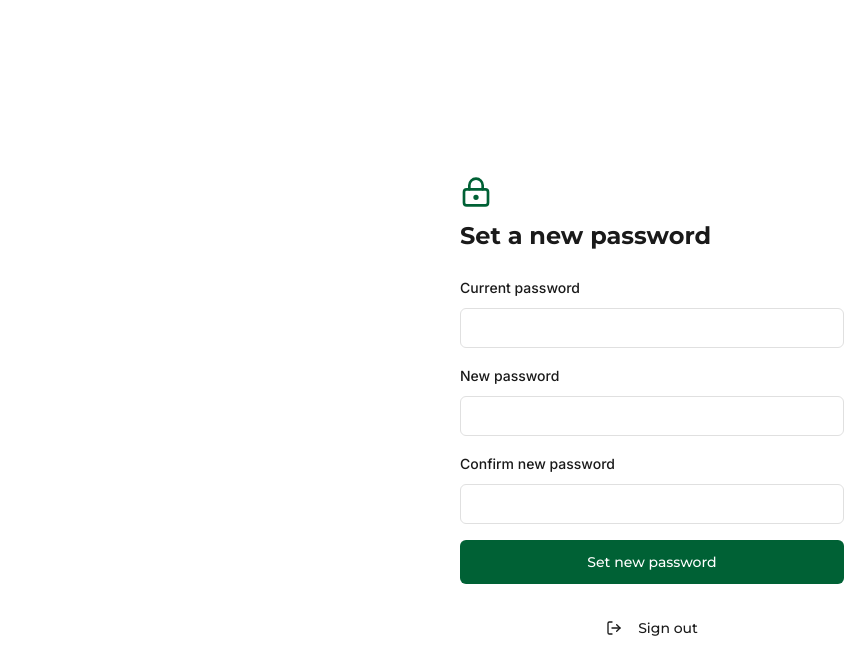
Scenario: Mandatory password-change screen › only releases protected content after a successful change and flag readback
The width and height of the screenshot is (861, 653).
Type "CurrentTestOnly1" into the password field labelled "Current password" at (652, 328), box x1=460 y1=308 x2=844 y2=348
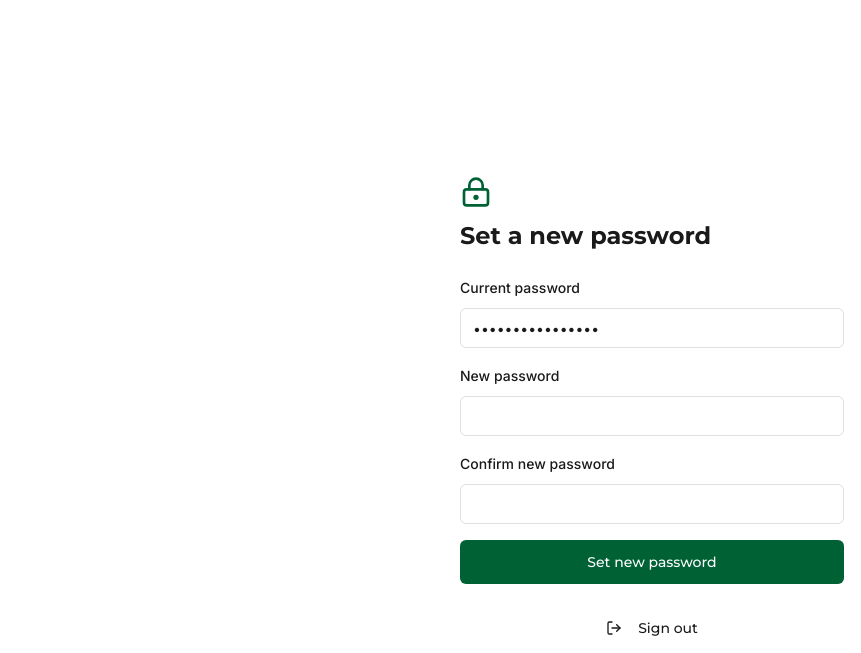
Type "ChangedTestOnly2" into the password field labelled "New password" at (652, 416), box x1=460 y1=396 x2=844 y2=436
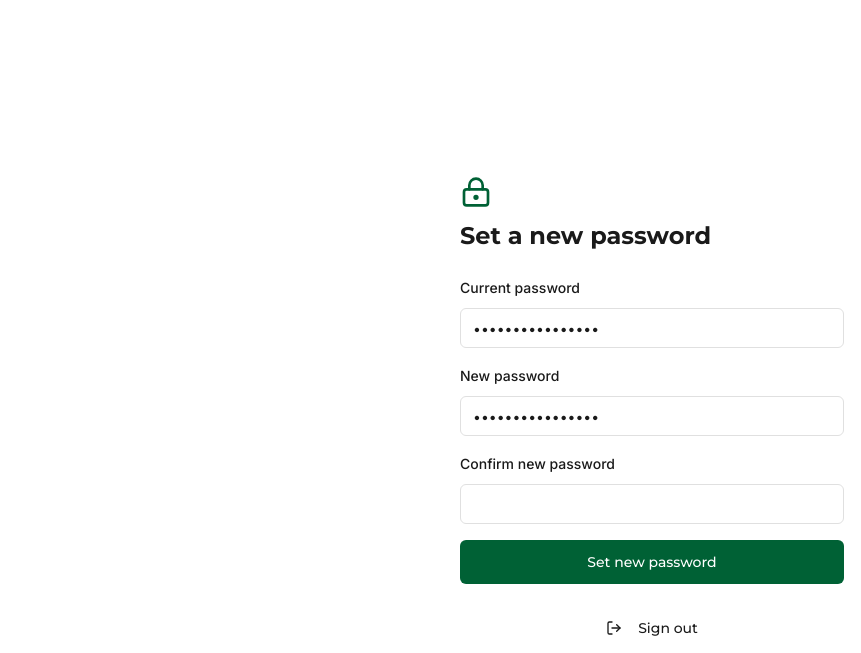
Type "ChangedTestOnly2" into the password field labelled "Confirm new password" at (652, 504), box x1=460 y1=484 x2=844 y2=524
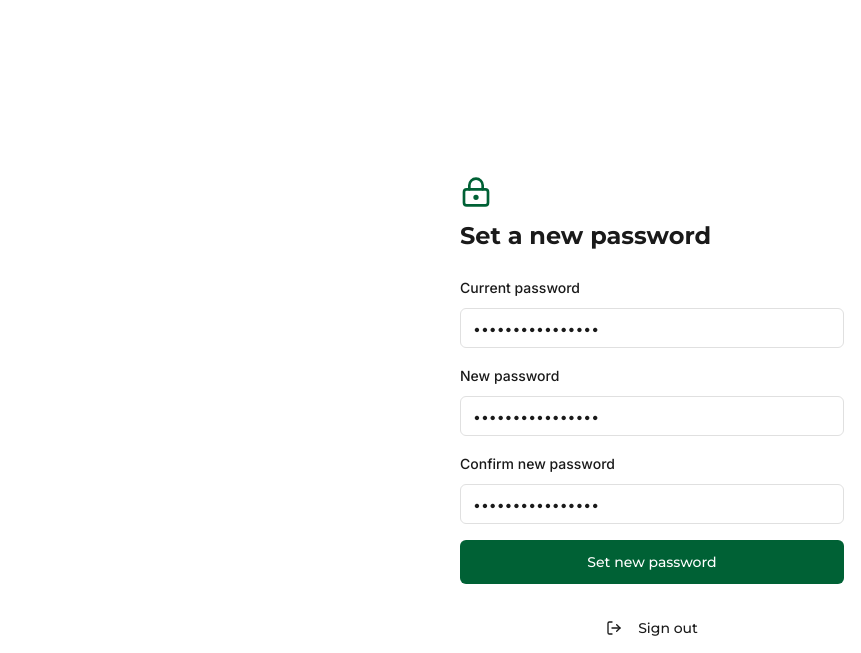
Click the button "Set new password" at (652, 562), box x1=460 y1=540 x2=844 y2=584
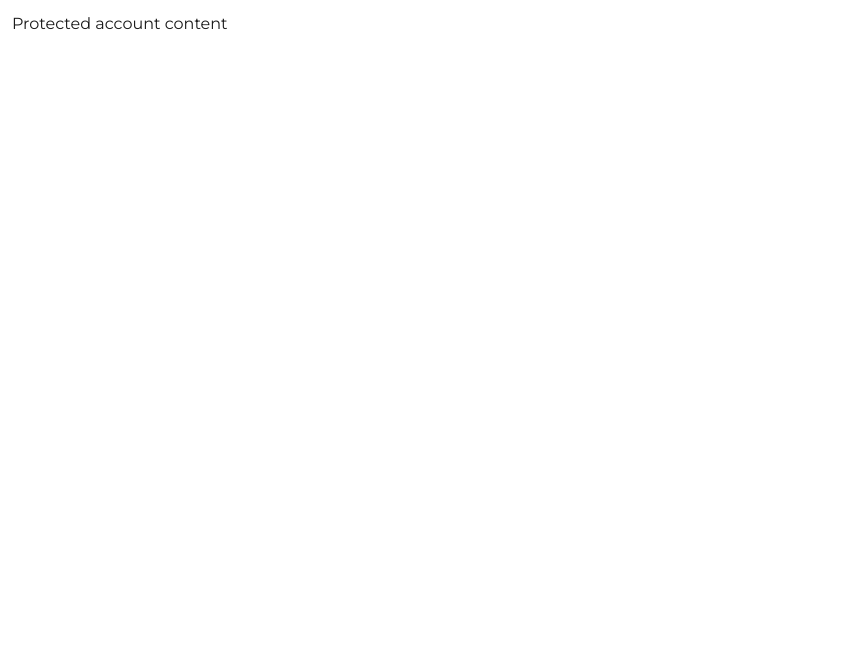
Expected: the text "Protected account content" is shown, x1=12 y1=14 x2=228 y2=33
